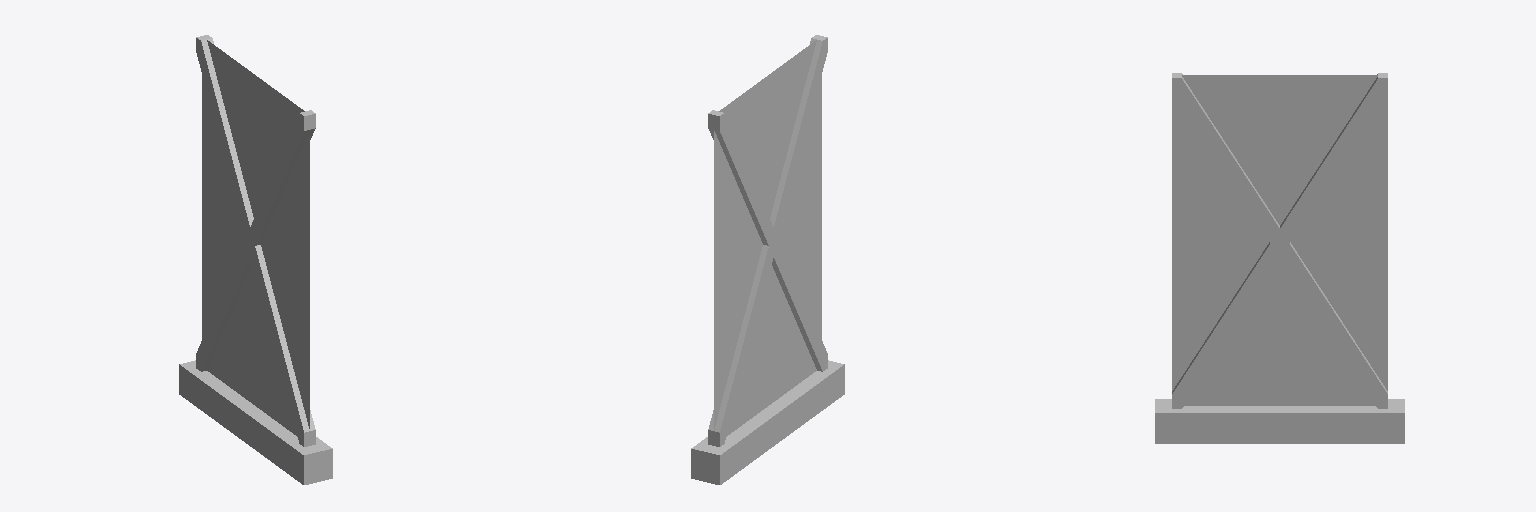
File: Unity_HD_Render_Pipeline_Metallic_Standard.obj
The picture shows the model from 3 angles: view 1: azimuth 30°, elevation 25°; view 2: azimuth 150°, elevation 25°; view 3: azimuth 270°, elevation 25°; orthographic projection.
Visible parts, largest first — view 1: Object329_Object329; view 2: Object329_Object329; view 3: Object329_Object329.
Boxes of the visible parts, x1=… form: Object329_Object329: x1=179, y1=35, x2=332, y2=484; Object329_Object329: x1=691, y1=35, x2=844, y2=484; Object329_Object329: x1=1155, y1=73, x2=1404, y2=443.
Size of the model in its own units: 40 by 480 by 300.